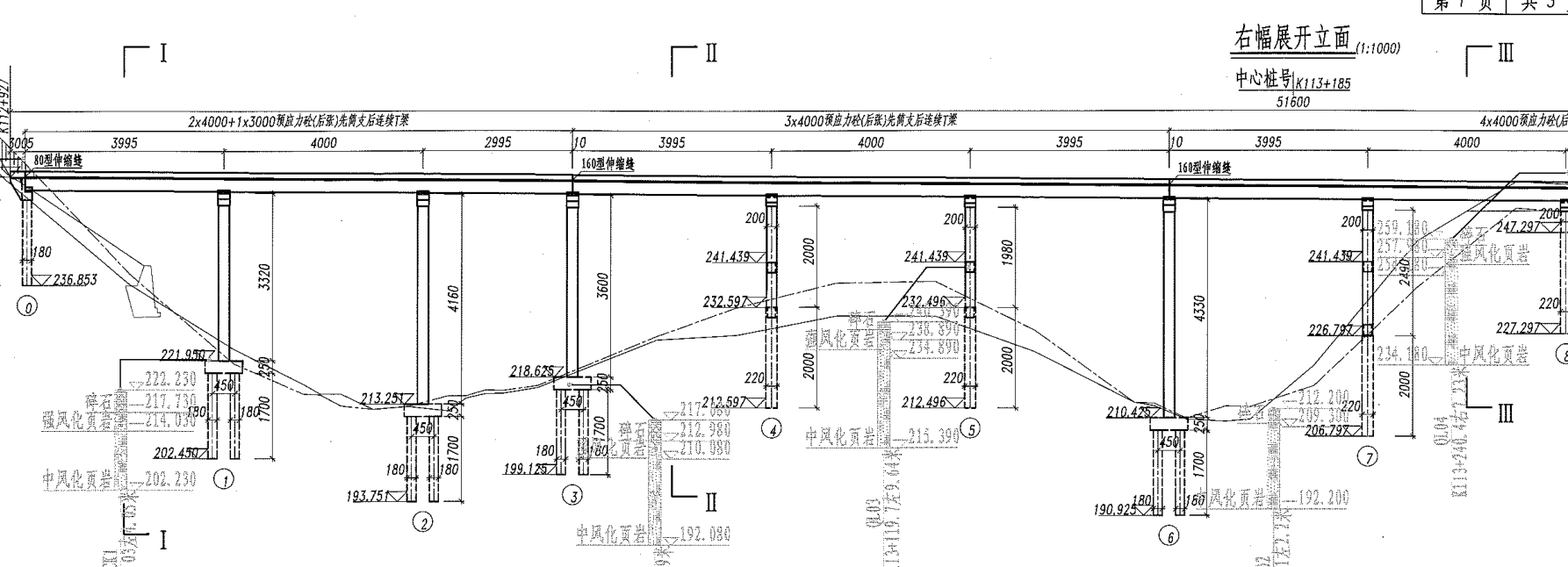A: (5, 96, 1568, 118)
B: (565, 104, 1179, 141), (16, 108, 570, 140)
C: (1090, 195, 1201, 554), (346, 186, 455, 542), (497, 190, 605, 513), (147, 183, 256, 497), (1297, 190, 1390, 473), (692, 187, 793, 444), (895, 186, 990, 443), (1492, 197, 1568, 370)
